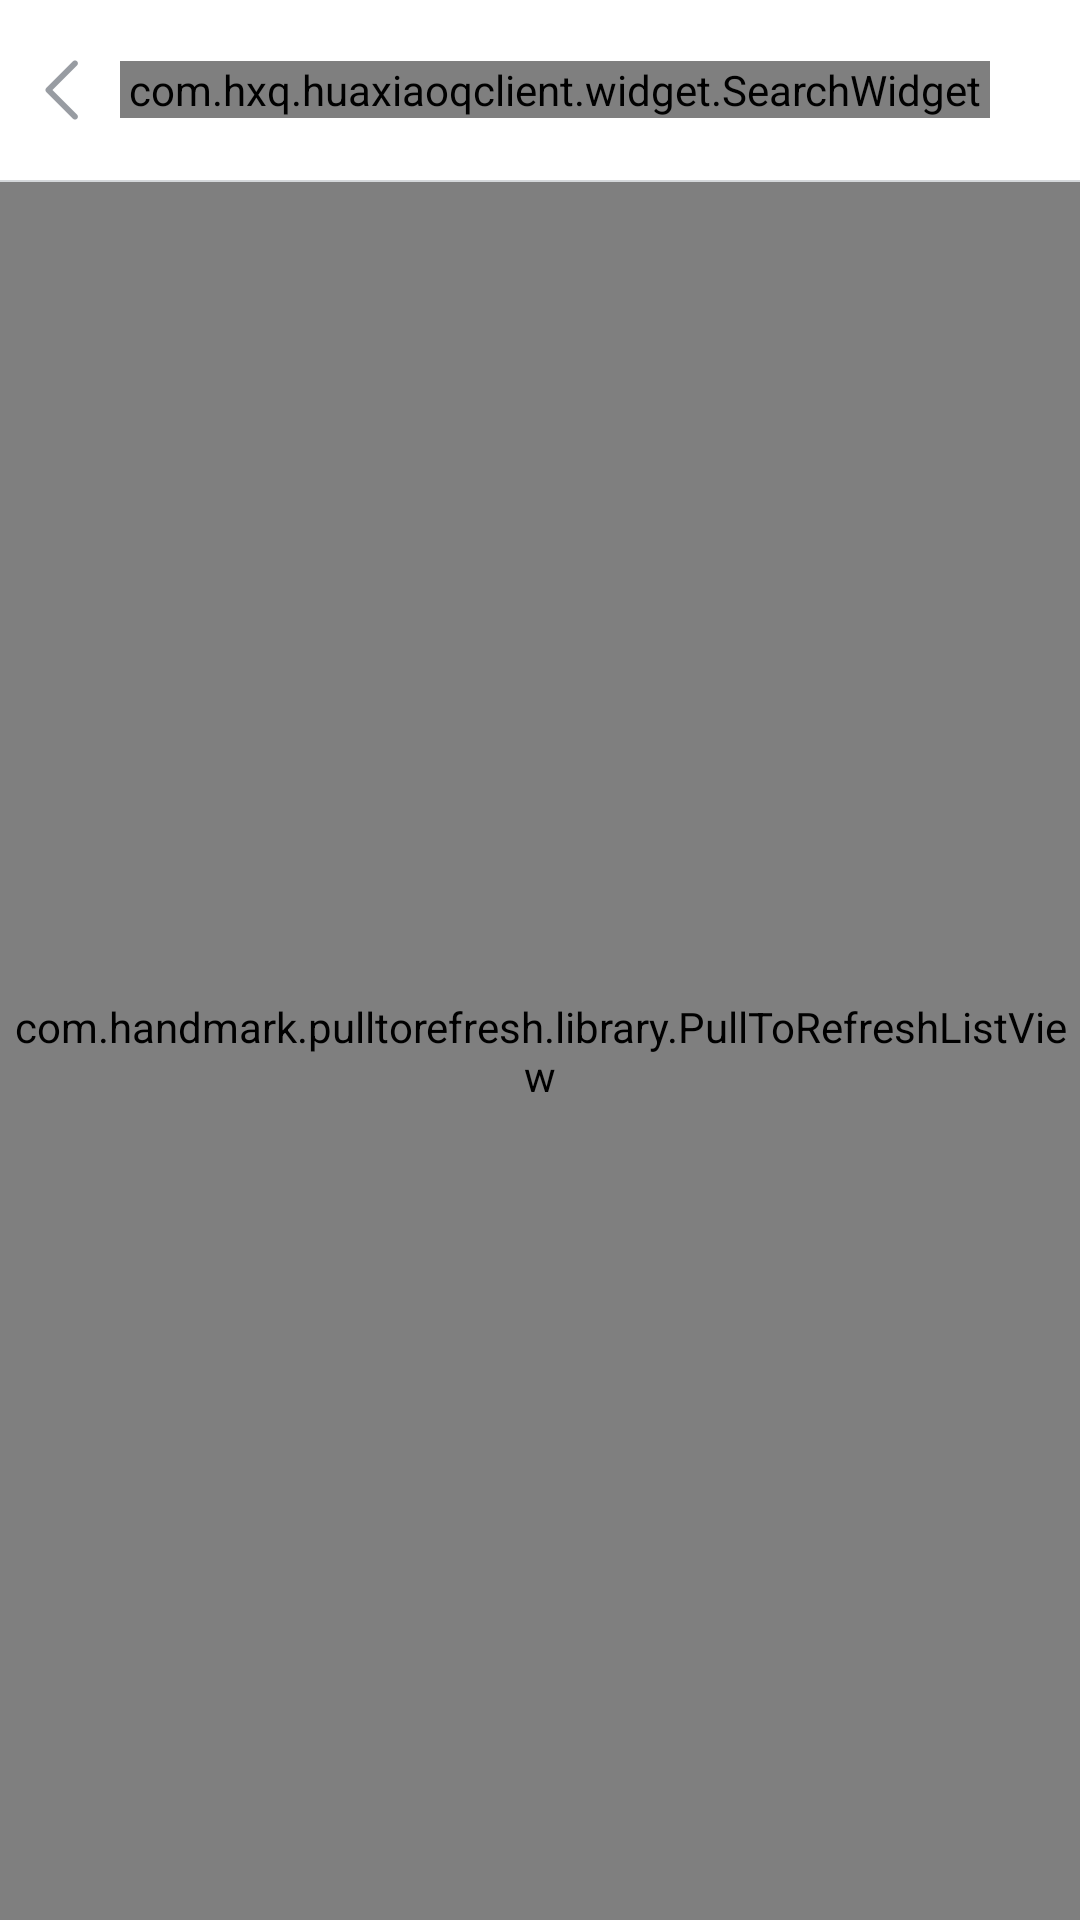

Named icons in this screenshot (1080px×1920px) and their bounding boxes, (left=x1, top=y1, right=x2, bottom=y2):
pic back: (left=45, top=60, right=78, bottom=120)
